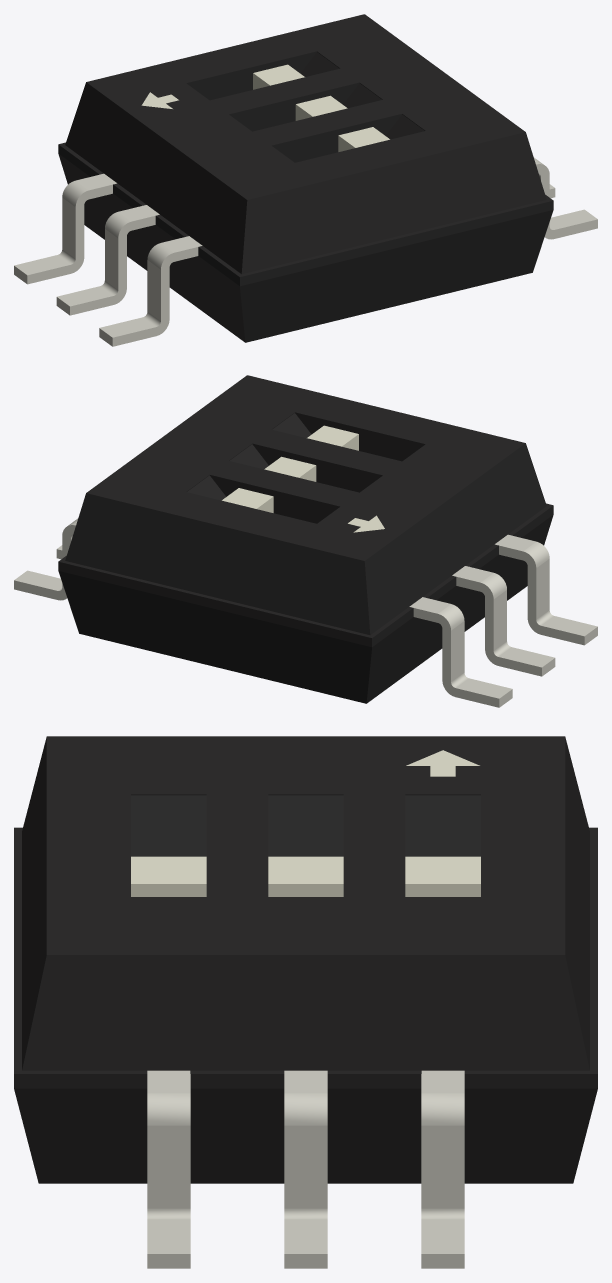
The model's file is kc-sw_dip_spstx03_slide_kingtek_dshp03ts_w7.62mm_p1.27mm.glb.
The picture shows the model from 3 angles, top to bottom: view 1: azimuth 30°, elevation 25°; view 2: azimuth 150°, elevation 25°; view 3: azimuth 270°, elevation 25°; orthographic projection. The views are drawn at different scales.
Parts seen in each view (by area): view 1: 0_0_0_0, 0.6666666666666666_0.6666666666666666_0.5833333333333334_0.8, 0.75_0.75_0.6666666666666666_0; view 2: 0_0_0_0, 0.6666666666666666_0.6666666666666666_0.5833333333333334_0.8, 0.75_0.75_0.6666666666666666_0; view 3: 0_0_0_0, 0.6666666666666666_0.6666666666666666_0.5833333333333334_0.8, 0.75_0.75_0.6666666666666666_0.
Boxes of the visible parts, left/top/right/bottom form: 0_0_0_0: left=58, top=14, right=553, bottom=342; 0.6666666666666666_0.6666666666666666_0.5833333333333334_0.8: left=14, top=157, right=597, bottom=346; 0.75_0.75_0.6666666666666666_0: left=141, top=64, right=389, bottom=151; 0_0_0_0: left=58, top=375, right=553, bottom=703; 0.6666666666666666_0.6666666666666666_0.5833333333333334_0.8: left=14, top=518, right=597, bottom=707; 0.75_0.75_0.6666666666666666_0: left=222, top=425, right=384, bottom=532; 0_0_0_0: left=14, top=736, right=597, bottom=1183; 0.6666666666666666_0.6666666666666666_0.5833333333333334_0.8: left=147, top=1070, right=464, bottom=1268; 0.75_0.75_0.6666666666666666_0: left=131, top=750, right=480, bottom=896.
Bounding box in the file's own units: 0.835 × 0.2375 × 0.541.
